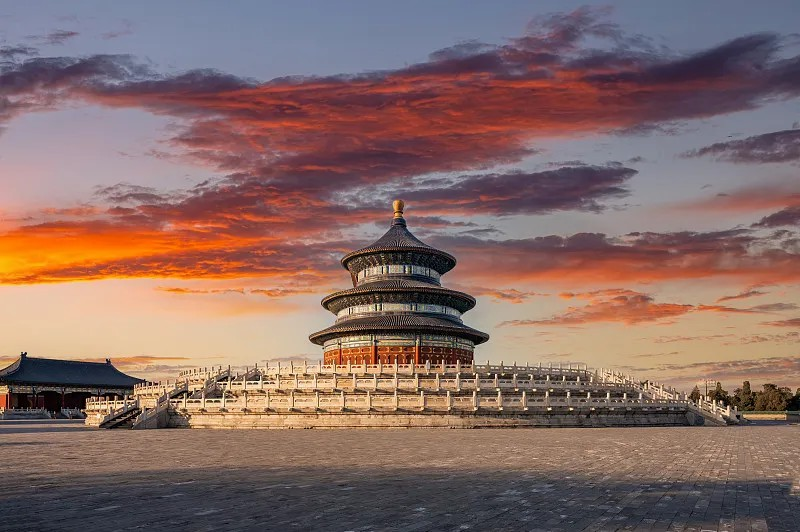Heaven: (308, 199, 491, 365)
